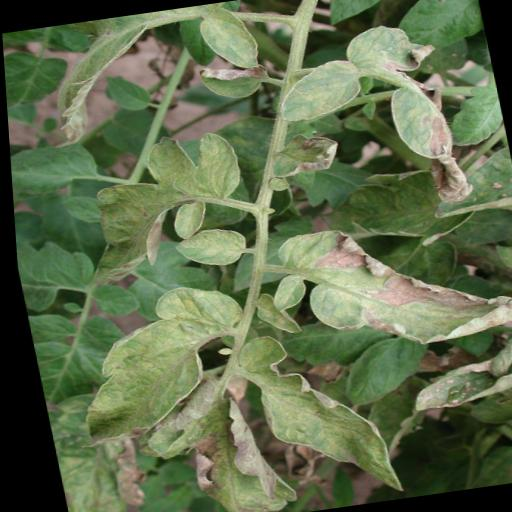Leaf Mold: (265, 200, 512, 365), (50, 278, 266, 450), (59, 122, 259, 292), (225, 319, 402, 511), (346, 11, 481, 210), (261, 52, 367, 130), (187, 0, 260, 77), (165, 217, 250, 273), (259, 129, 343, 183)
